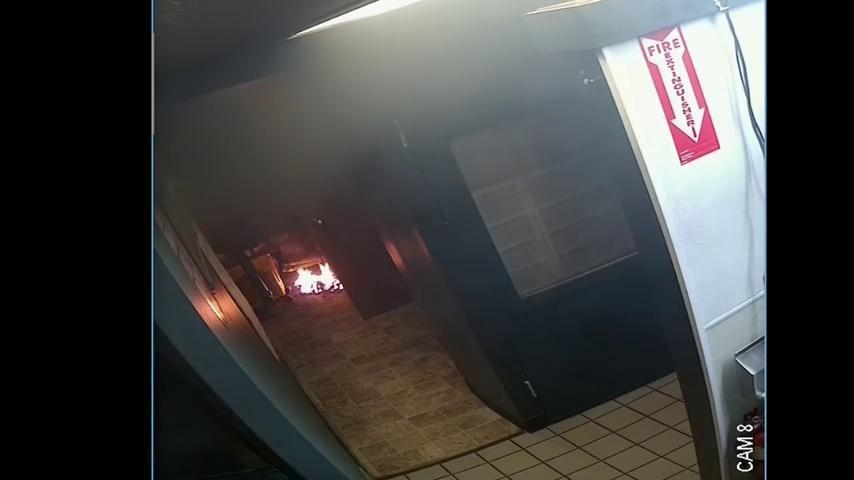fire: (246, 233, 357, 305)
